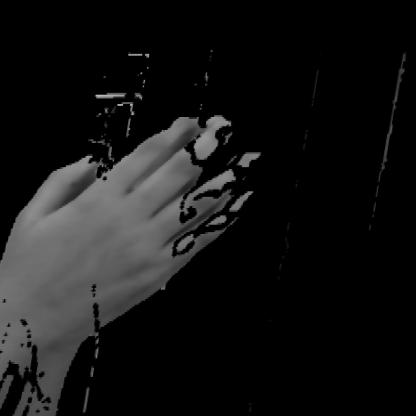dua: (0, 102, 311, 364)
